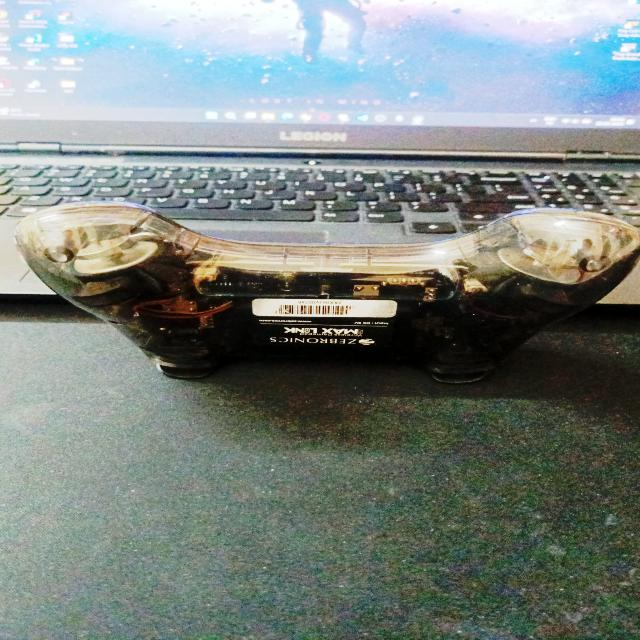gamepad: (13, 200, 637, 384)
